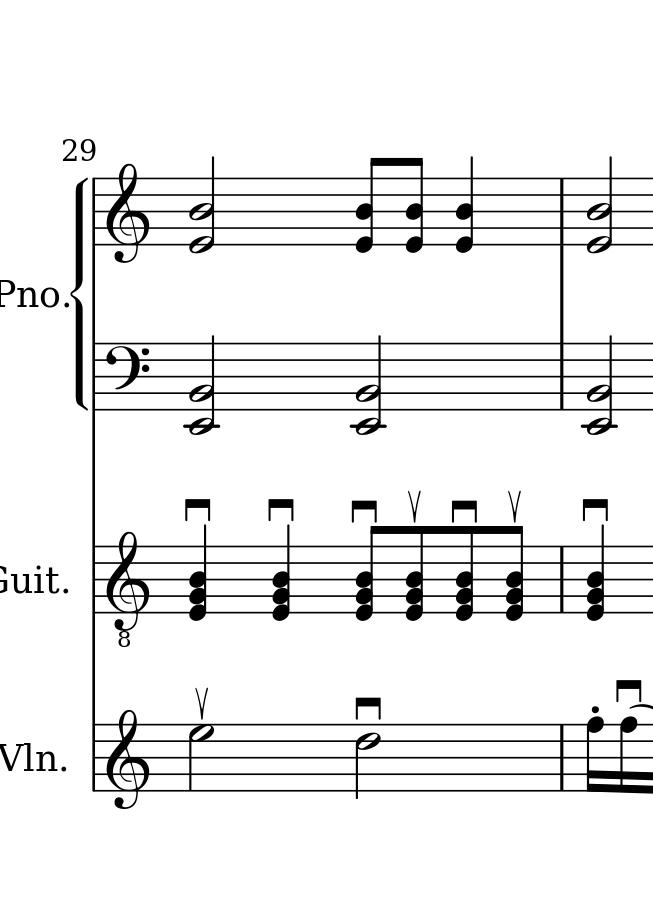16_8: (617, 716, 639, 795), (584, 716, 605, 795)
2: (61, 137, 77, 162)
2_-2_2: (184, 336, 221, 435), (348, 337, 385, 436), (581, 336, 618, 435)
2_0_4: (188, 155, 217, 255), (585, 156, 614, 256)
2_6: (354, 723, 380, 800)
2_7: (186, 723, 214, 794)
4_0_4: (455, 155, 476, 254)
4_th: (270, 519, 293, 627), (186, 519, 209, 626), (585, 522, 606, 627)
8_0_4: (354, 156, 386, 254), (403, 156, 425, 253)
8_th: (354, 524, 385, 625), (403, 524, 427, 623), (504, 526, 526, 624), (455, 524, 475, 625)
9: (79, 136, 97, 162)
Brace: (71, 175, 89, 413)
Down_bow: (354, 693, 384, 724), (613, 676, 643, 705), (580, 495, 611, 523), (450, 497, 480, 525), (182, 495, 214, 521), (348, 498, 380, 523), (265, 496, 297, 520)
Fclef: (105, 342, 153, 414)
Gclef: (104, 160, 152, 264), (105, 708, 151, 811)
Guit: (1, 562, 61, 599)
Lower_Gclef: (104, 528, 152, 649)
Pno: (1, 276, 60, 311)
Single_barline: (554, 179, 571, 245), (553, 344, 569, 410), (554, 724, 570, 790), (88, 344, 103, 410), (88, 179, 102, 245), (88, 546, 101, 615), (555, 547, 569, 611), (87, 726, 101, 790)
Tremolo_bar: (506, 489, 523, 526), (194, 685, 210, 722), (407, 488, 422, 523)
Vln: (2, 739, 57, 777)
